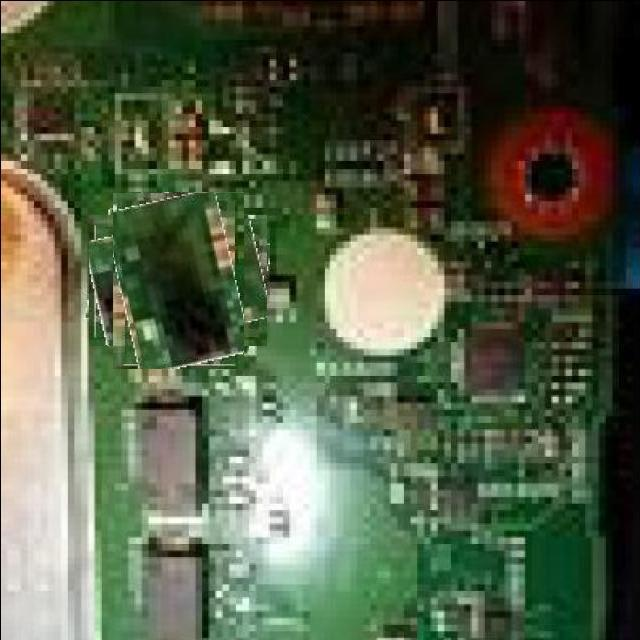damged: (101, 203, 256, 358)
